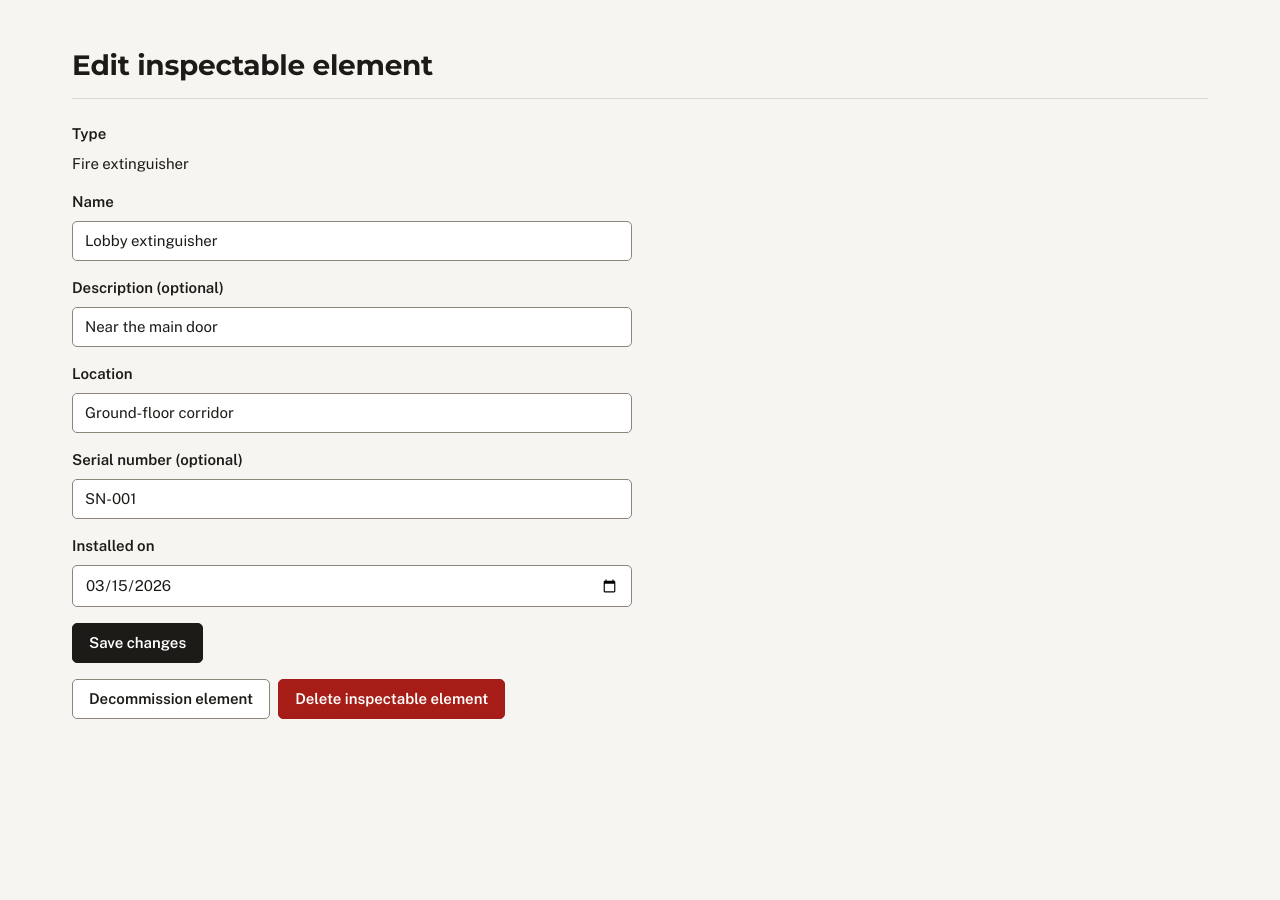
InspectableElementEditPage › decommission / reactivate control › decommissions an active element after confirmation and shows Reactivate afterward
The image size is (1280, 900).
What coordinates should you click on to do the following:
click the button with test id "inspectable-element-edit-decommission"
I would click on:
 (171, 699)
Its box is 72,679 -> 270,719.
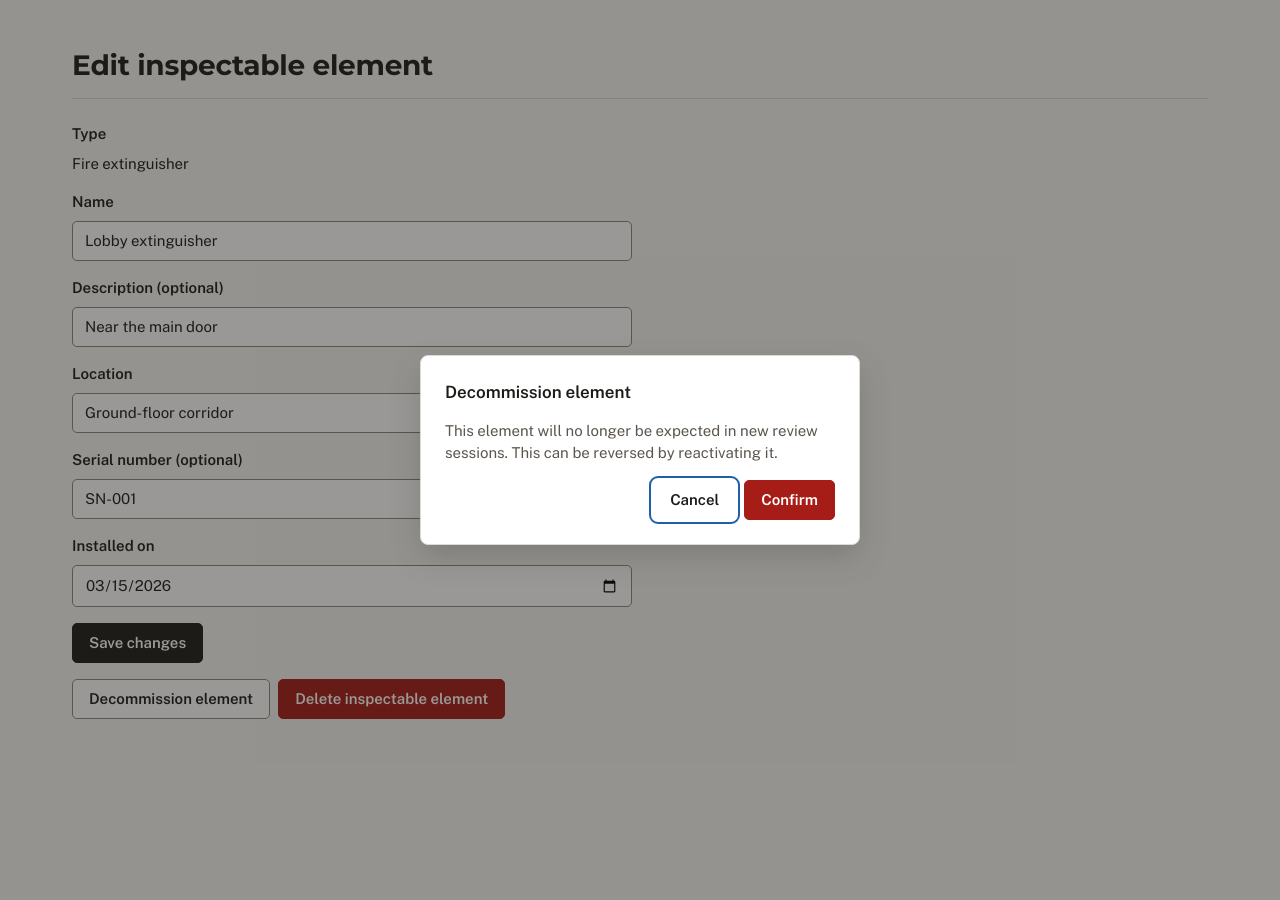
What coordinates should you click on to do the following:
click the button with test id "confirm-dialog-confirm"
I would click on:
 (790, 500)
Its box is 744,480 -> 835,520.
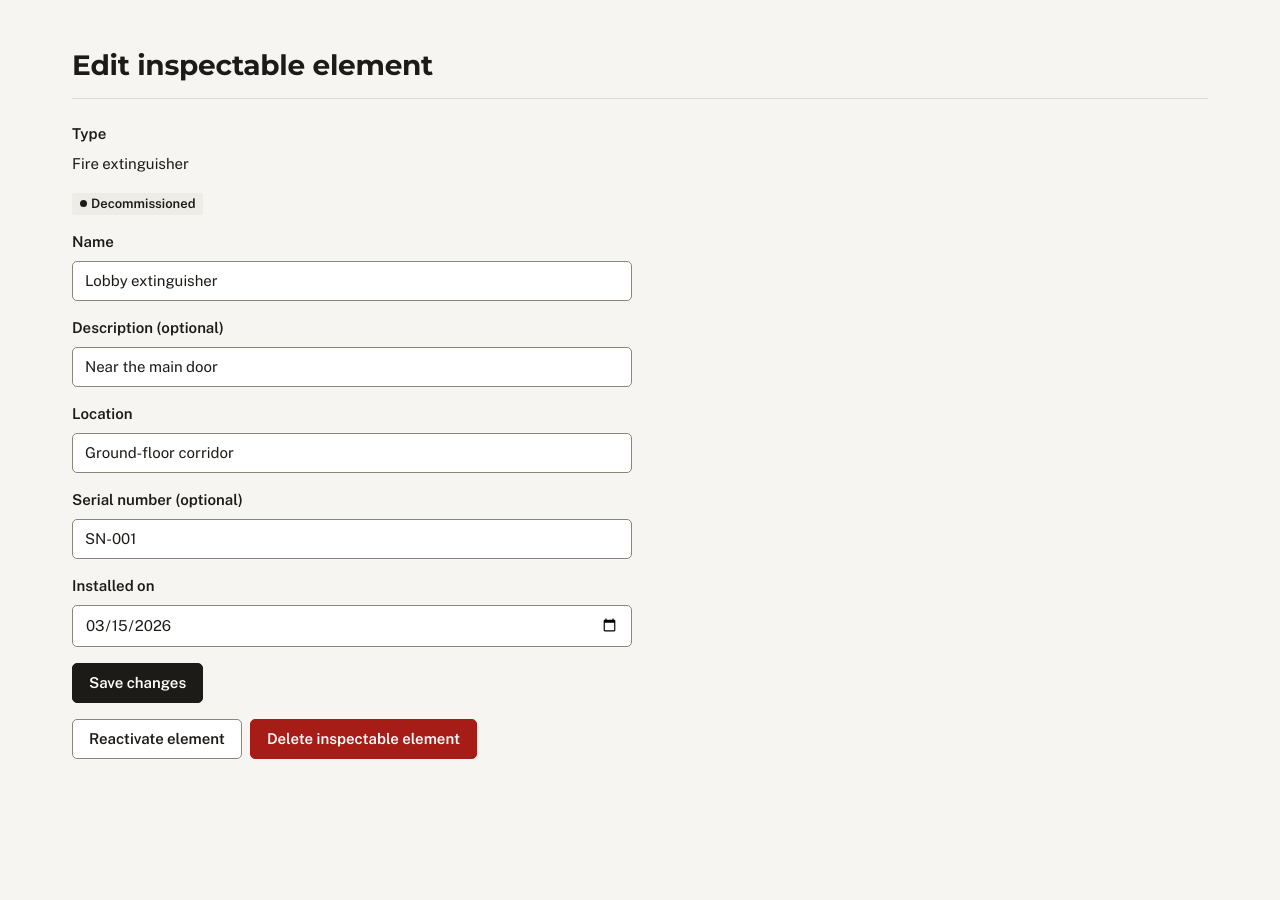
Result: the button with test id "inspectable-element-edit-reactivate" is shown at 72,718 -> 242,758
